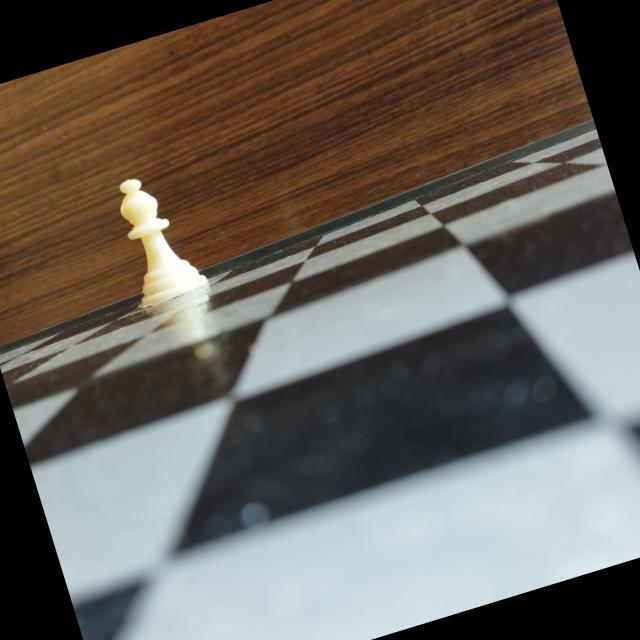White Bishop: (91, 154, 216, 318)
